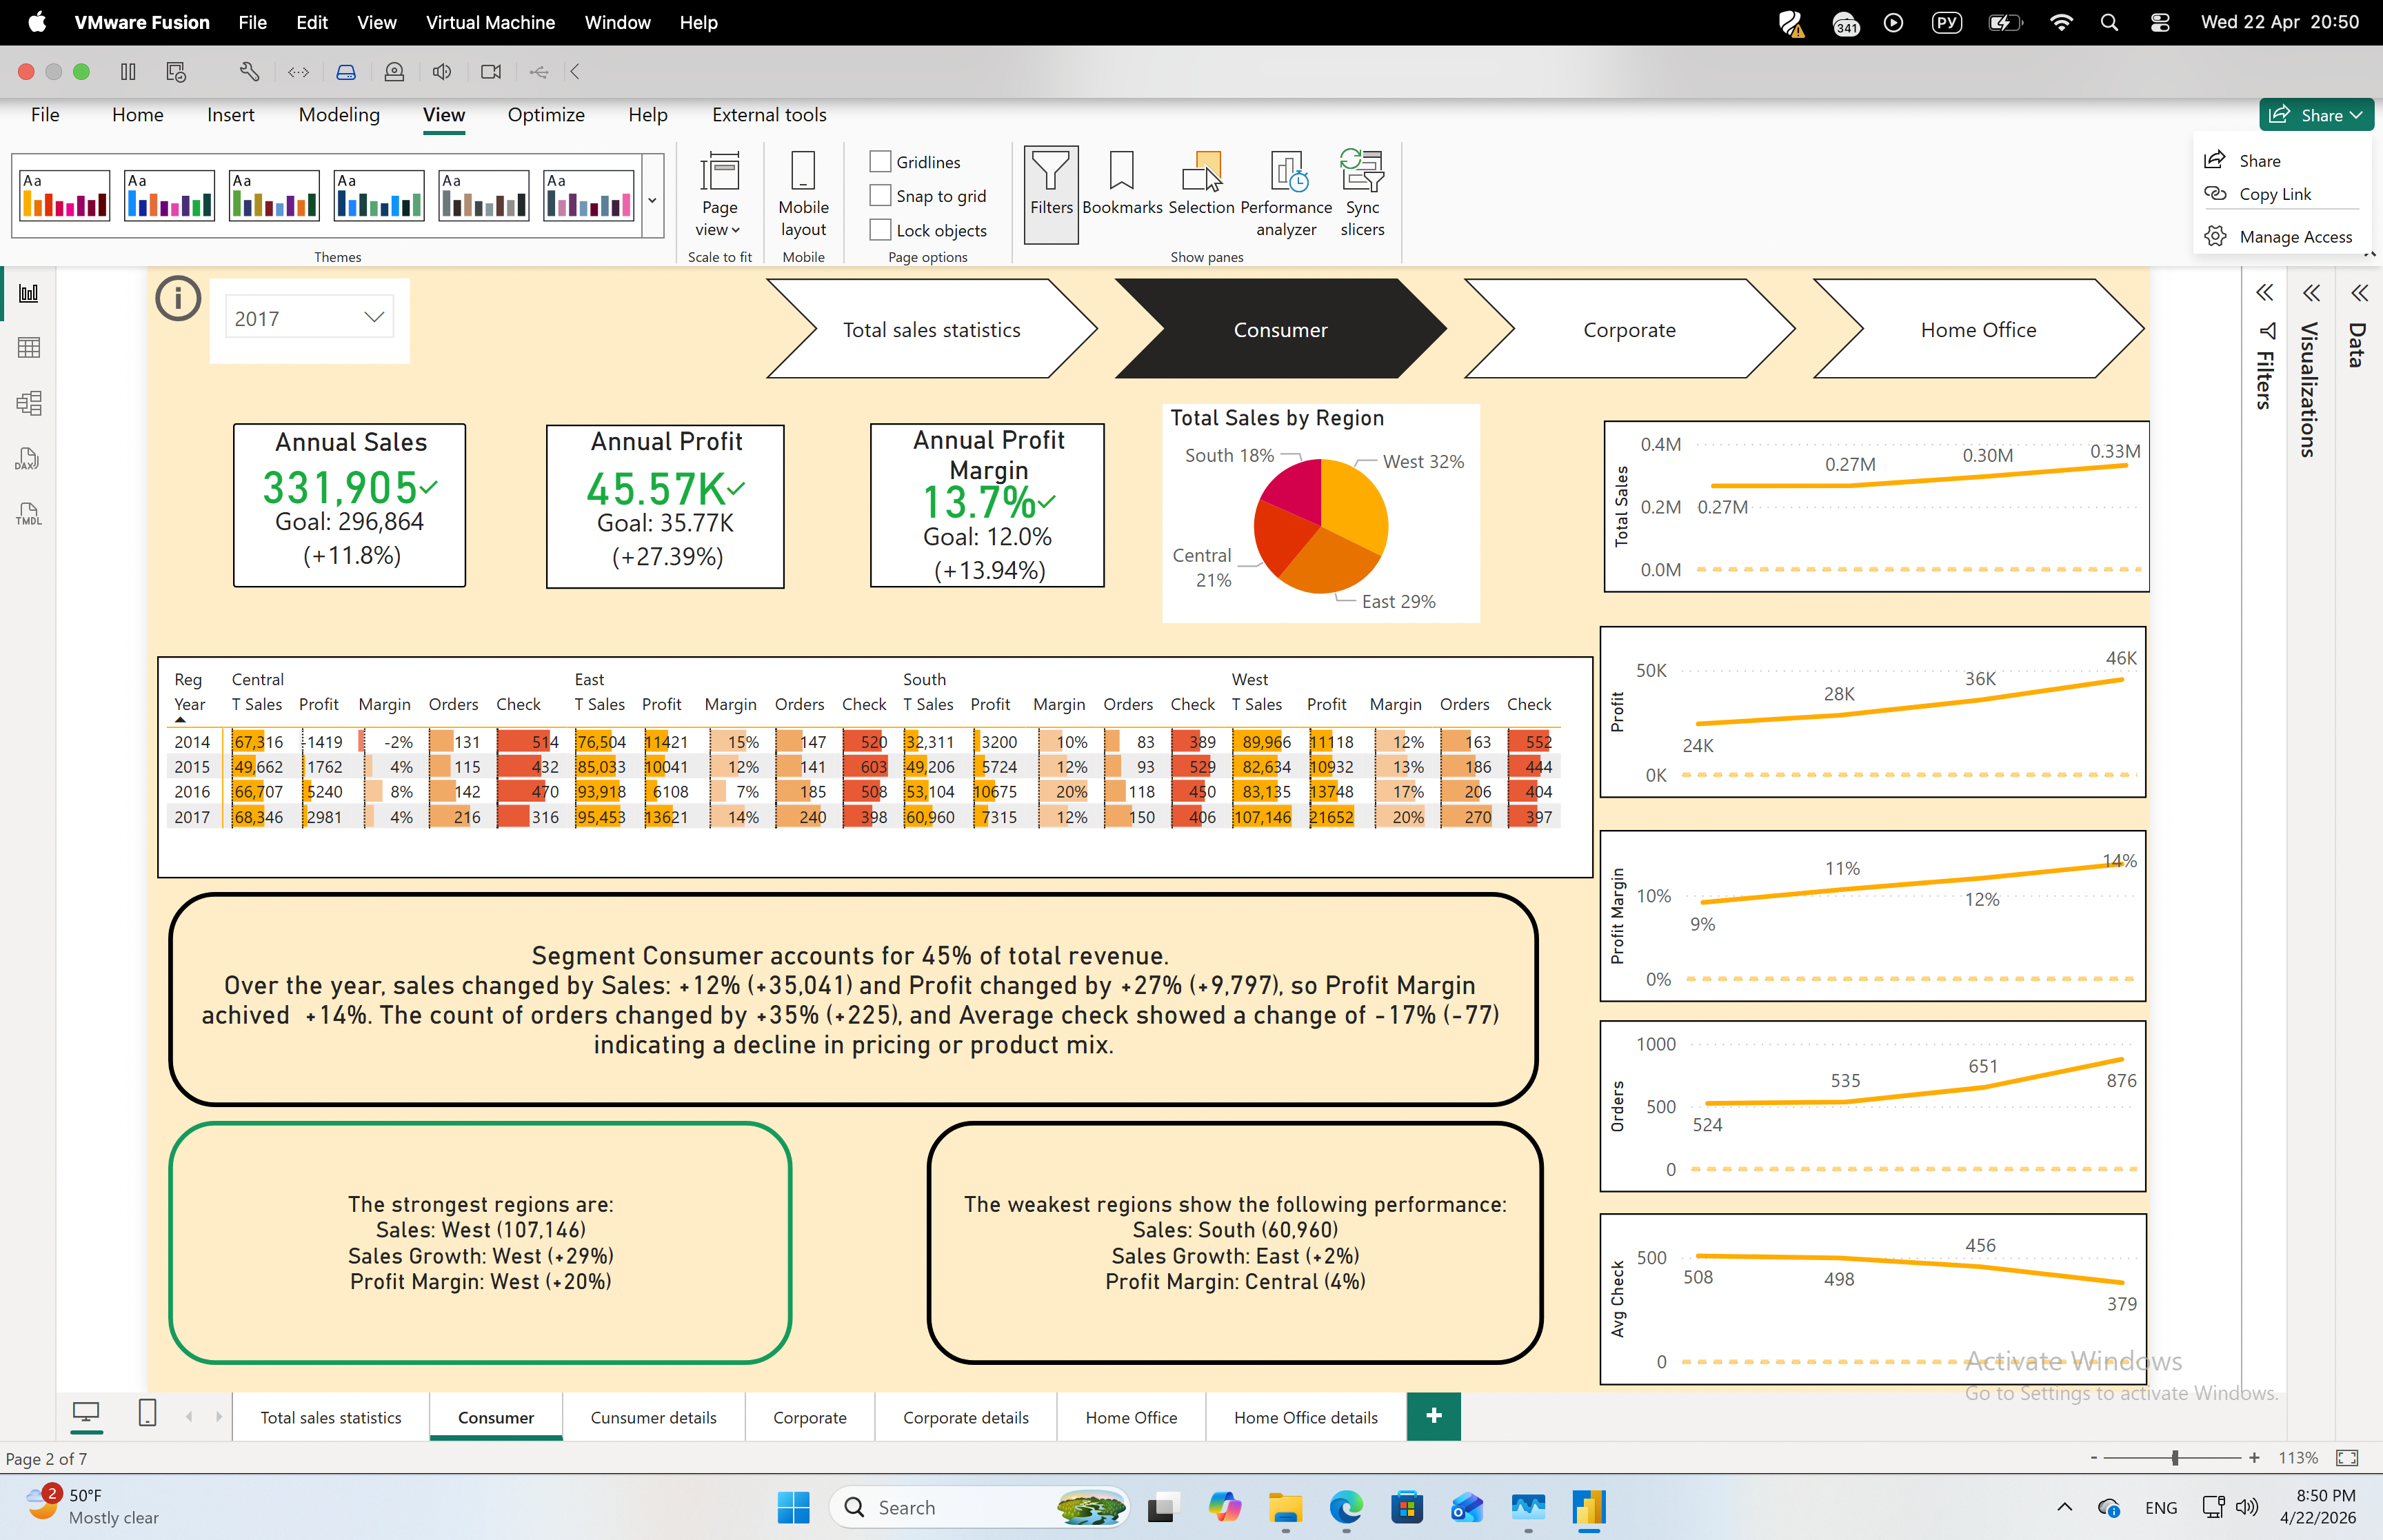

The dashboard page shown, as its layout file describes it:
{"tool":"powerbi","page":{"name":"Consumer","canvas":[1280,720],"ordinal":1},"visuals":[{"type":"pageNavigator","box":[395,7.9,885,64.7],"z":0},{"type":"actionButton","box":[0,1.1,39.4,39.4],"z":1000},{"type":"pivotTable","title":"KPI","fields":{"Columns":["Sales.Region"],"Rows":["DateTable.Year"],"Values":["_Measures.Total Sales","_Measures.Profit","_Measures.Profit Margin","_Measures.Distinct Orders","_Measures.Avg Check"]},"box":[6.6,249.4,917.9,142.2],"z":2000},{"type":"pieChart","fields":{"Y":["_Measures.Total Sales"],"Category":["Sales.Region"]},"box":[648.2,87.9,202.9,140.1],"z":3000},{"type":"slicer","fields":{"Values":["DateTable.Year"]},"box":[39.4,7.7,128,54.7],"z":4000},{"type":"card","fields":{"Values":["_Measures.KEY Insight 1.2"]},"box":[13.6,546.5,399.2,156],"z":5000},{"type":"card","fields":{"Values":["_Measures.Key Insight 1.3"]},"box":[498,546.5,394.4,156],"z":6000},{"type":"card","fields":{"Values":["_Measures.Key Insight 1.1"]},"box":[13.6,400.2,875.9,137.6],"z":7000},{"type":"lineChart","fields":{"Y":["_Measures.Total Sales"],"Category":["DateTable.Year"]},"box":[930.3,98.5,349.7,110.1],"z":8000},{"type":"lineChart","title":"Profit by Year","fields":{"Y":["_Measures.Profit"],"Category":["DateTable.Year"]},"box":[928.4,229.9,349.7,110.1],"z":9000},{"type":"lineChart","fields":{"Category":["DateTable.Year"],"Y":["_Measures.Distinct Orders"]},"box":[928.4,482.1,349.7,110.1],"z":10000},{"type":"lineChart","fields":{"Category":["DateTable.Year"],"Y":["_Measures.Avg Check"]},"box":[928.4,605.7,350,110],"z":11000},{"type":"lineChart","fields":{"Category":["DateTable.Year"],"Y":["_Measures.Profit Margin"]},"box":[928.4,360.3,349.7,110.1],"z":12000},{"type":"kpi","title":"Annual Sales","fields":{"Indicator":["_Measures.Total Sales"],"Goal":["_Measures.Sales_LY"],"TrendLine":["DateTable.Year"]},"box":[55,100.8,149.2,105],"z":13000},{"type":"kpi","title":"Annual Profit","fields":{"TrendLine":["DateTable.Year"],"Indicator":["_Measures.Profit"],"Goal":["_Measures.Profit LY"]},"box":[254.6,101.1,152.6,105],"z":14000},{"type":"kpi","title":"Annual Profit Margin","fields":{"TrendLine":["DateTable.Year"],"Indicator":["_Measures.Profit Margin"],"Goal":["_Measures.Margin LY"]},"box":[462,100.4,150.2,105.1],"z":15000}]}

Visuals, with their boxes on the page's 1280x720 design canvas (x1, y1, x2, y2). These are canvas units, not pixel positions in the 2383x1540 screenshot, which may show the page scaled, cropped or inside an application window:
pageNavigator: 395/8/1280/73
actionButton: 0/1/39/40
"KPI" pivotTable: 7/249/924/392
pieChart - _Measures.Total Sales x Sales.Region: 648/88/851/228
slicer - DateTable.Year: 39/8/167/62
card - _Measures.KEY Insight 1.2: 14/546/413/702
card - _Measures.Key Insight 1.3: 498/546/892/702
card - _Measures.Key Insight 1.1: 14/400/890/538
lineChart - _Measures.Total Sales x DateTable.Year: 930/98/1280/209
"Profit by Year" lineChart: 928/230/1278/340
lineChart - DateTable.Year x _Measures.Distinct Orders: 928/482/1278/592
lineChart - DateTable.Year x _Measures.Avg Check: 928/606/1278/716
lineChart - DateTable.Year x _Measures.Profit Margin: 928/360/1278/470
"Annual Sales" kpi: 55/101/204/206
"Annual Profit" kpi: 255/101/407/206
"Annual Profit Margin" kpi: 462/100/612/206
